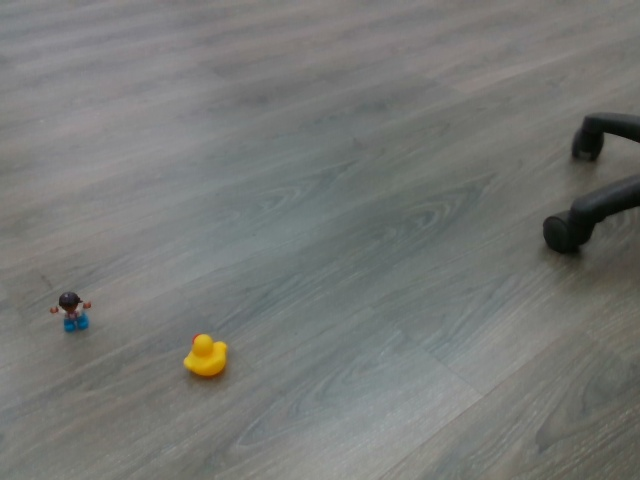duck: (179, 331, 234, 378)
people: (47, 288, 97, 333)
